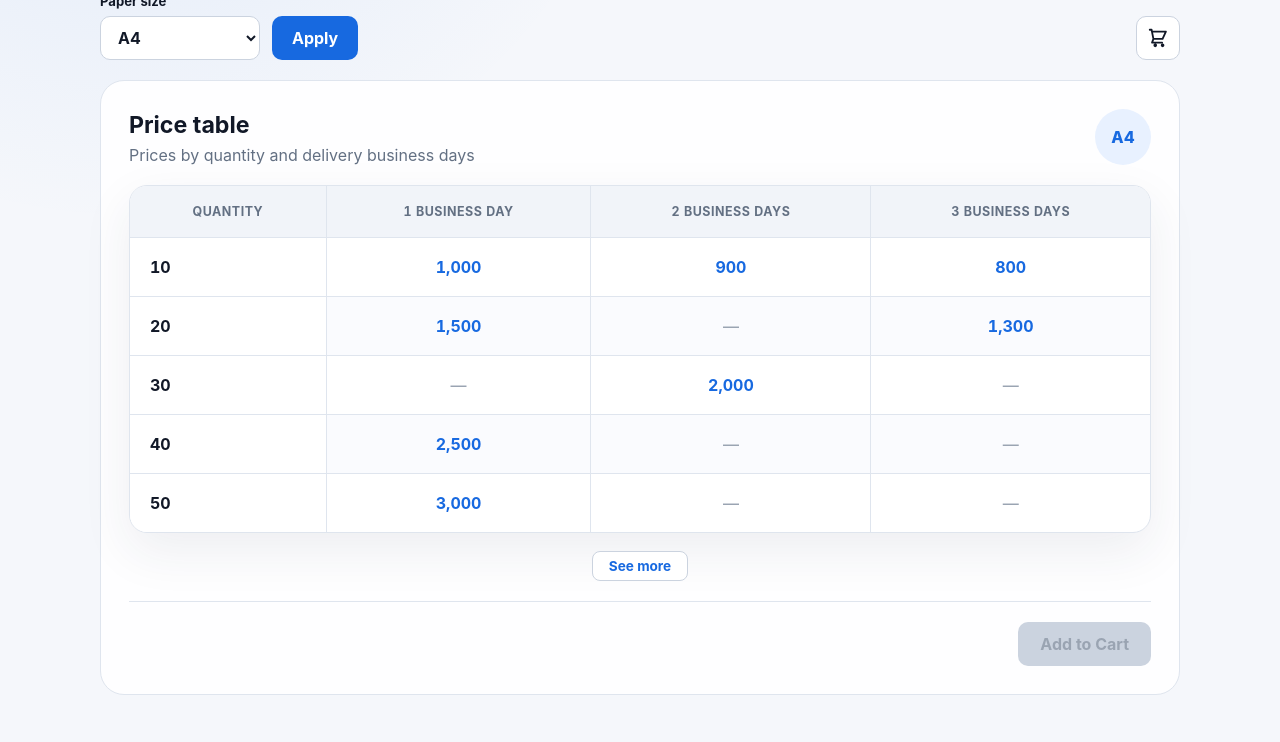
Test: App › selects an expanded-row price and clears it with a size change
(page scrolled)
Click the button "See more". click: (640, 566)
box: [592,551,688,581]
(page scrolled)
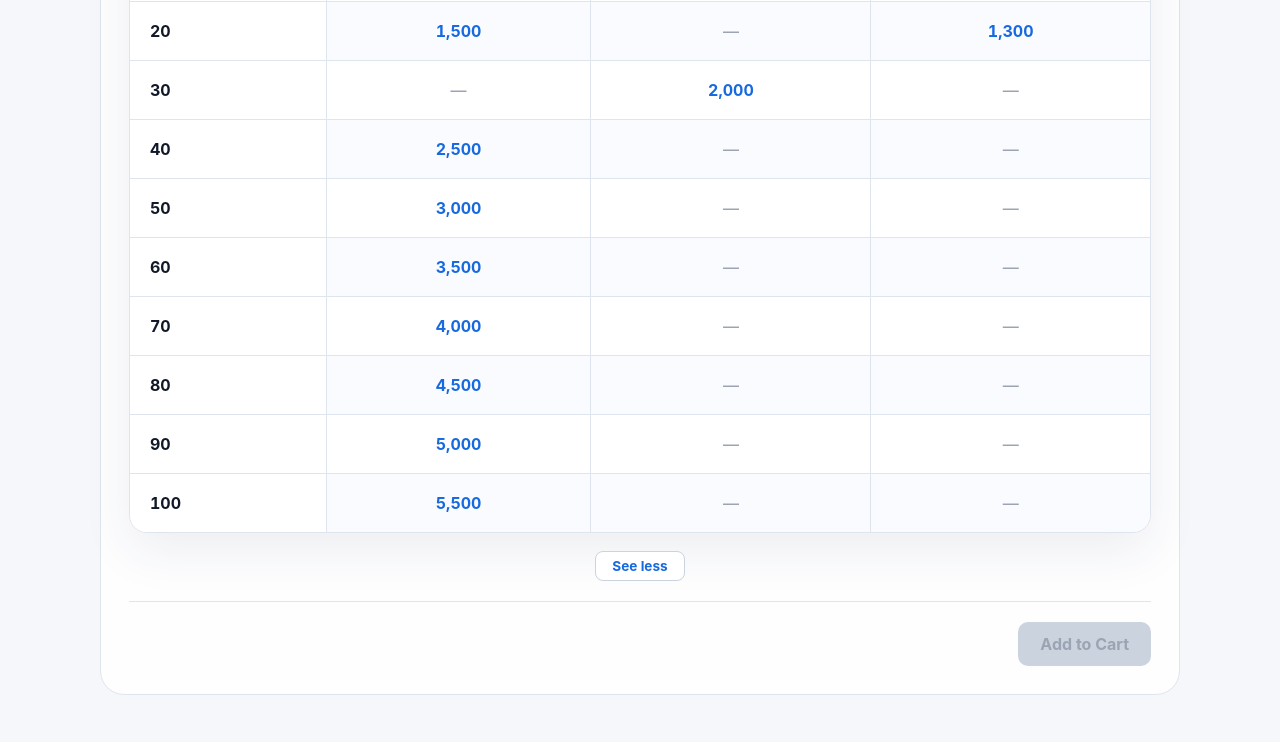
Click the button named "Select 5,500, quantity 100, 1 business day". click: (459, 503)
box: [327,474,590,532]
(page scrolled)
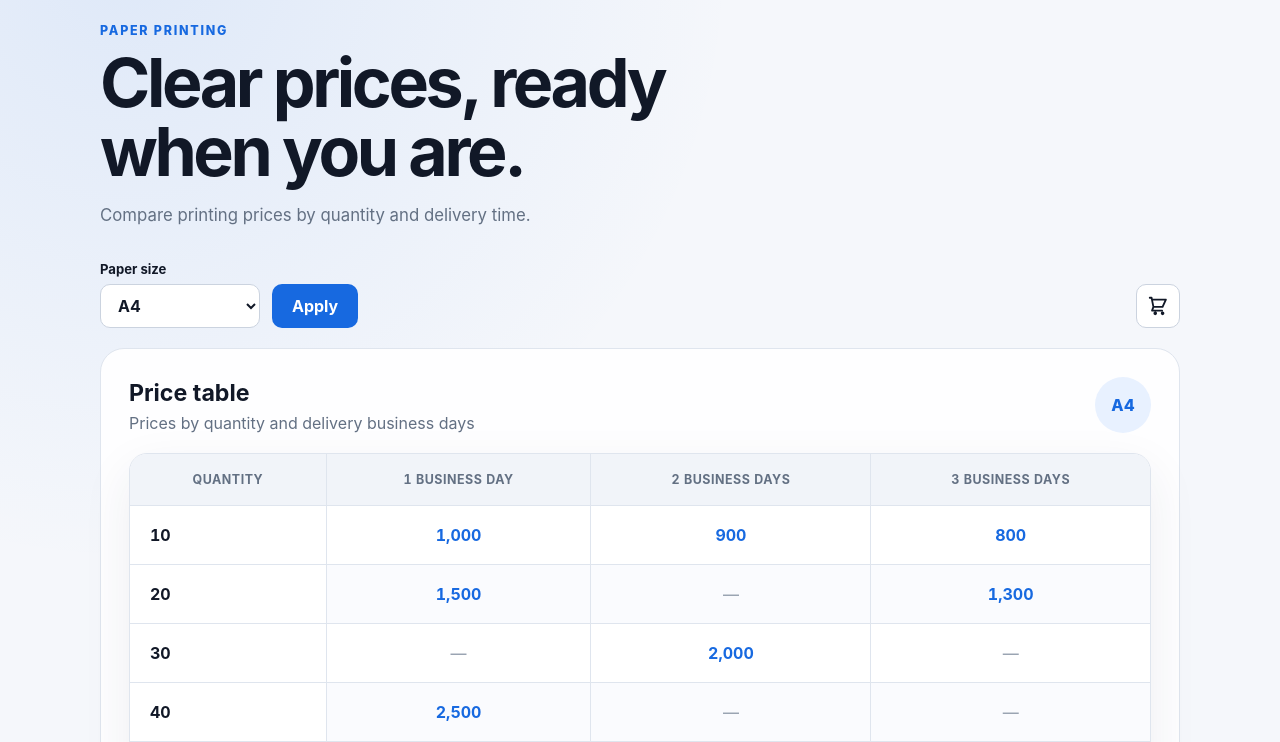
Select "A5" in the dropdown labelled "Paper size". click: (180, 306)
box: [100,284,260,328]
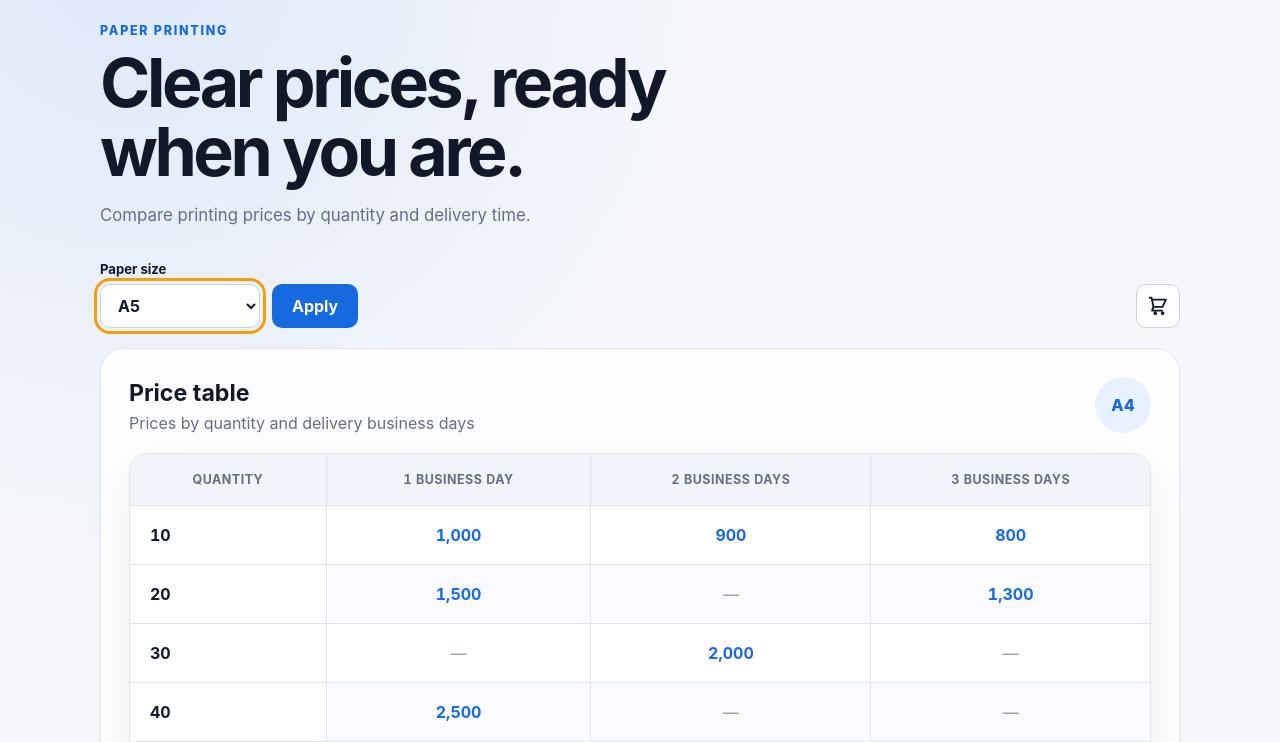
Click the button "Apply". click: (315, 306)
box: [272,284,358,328]
(page scrolled)
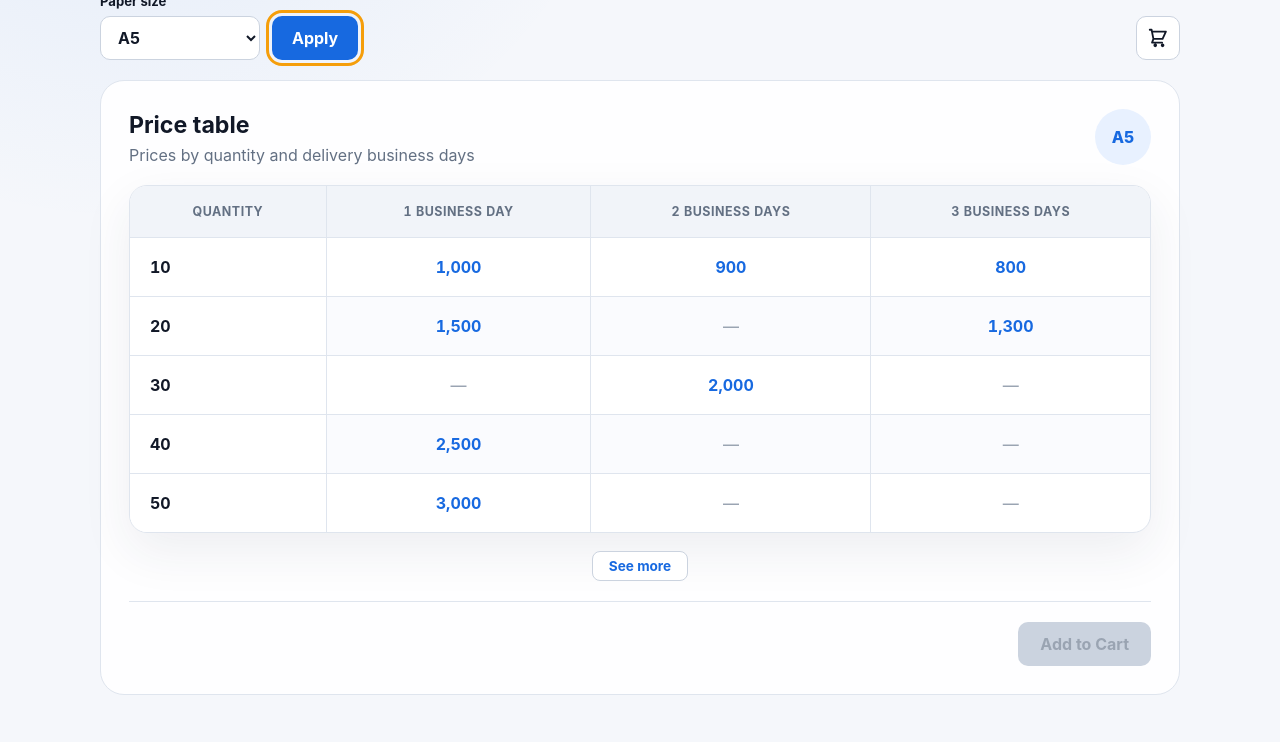
Expected: the button "See more" is shown, [592,551,688,581]
